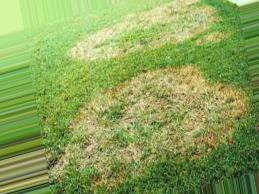patch: (140, 110, 221, 141), (132, 81, 207, 105), (79, 119, 123, 143), (91, 37, 132, 52), (213, 92, 238, 107)
